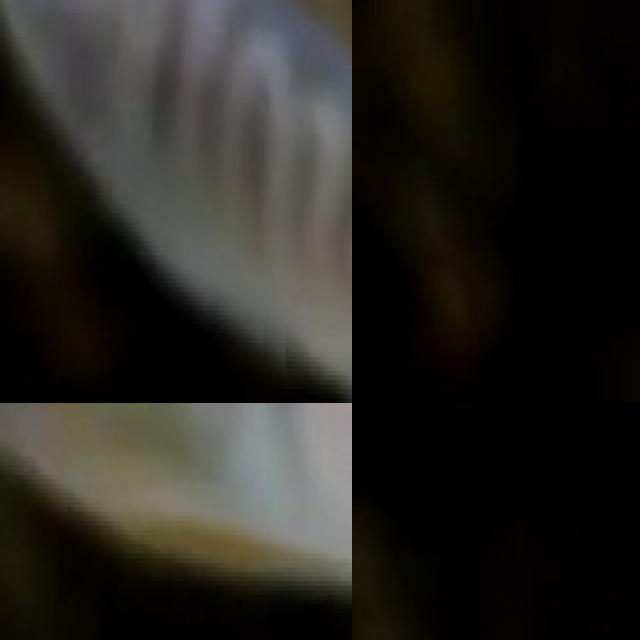fish: (0, 0, 352, 403)
